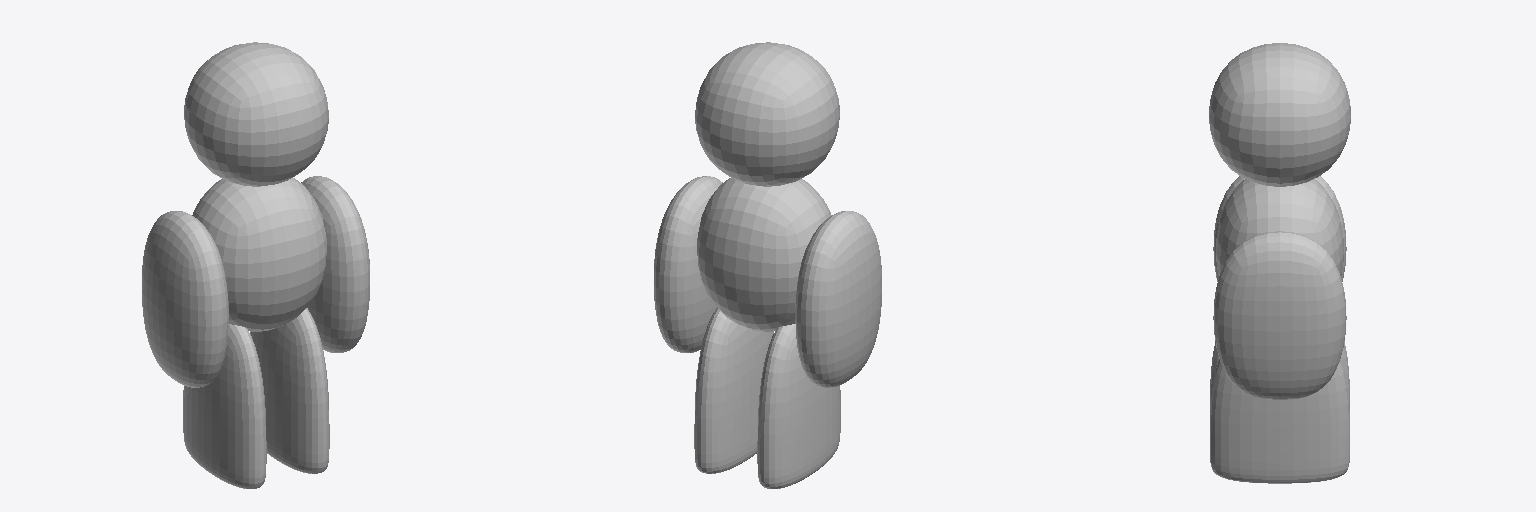
Rendered from humanoid.obj.
3 views of the same model, side by side, from view 1: azimuth 30°, elevation 25°; view 2: azimuth 150°, elevation 25°; view 3: azimuth 270°, elevation 25° (orthographic).
Parts seen in each view (by area): view 1: Cube.002; view 2: Cube.002; view 3: Cube.002.
Boxes of the visible parts, x1,y1,x2,y2 form: Cube.002: [142, 42, 369, 488]; Cube.002: [654, 42, 881, 488]; Cube.002: [1209, 43, 1350, 483].
Size of the model in its own units: 14.69 by 29.64 by 9.3.